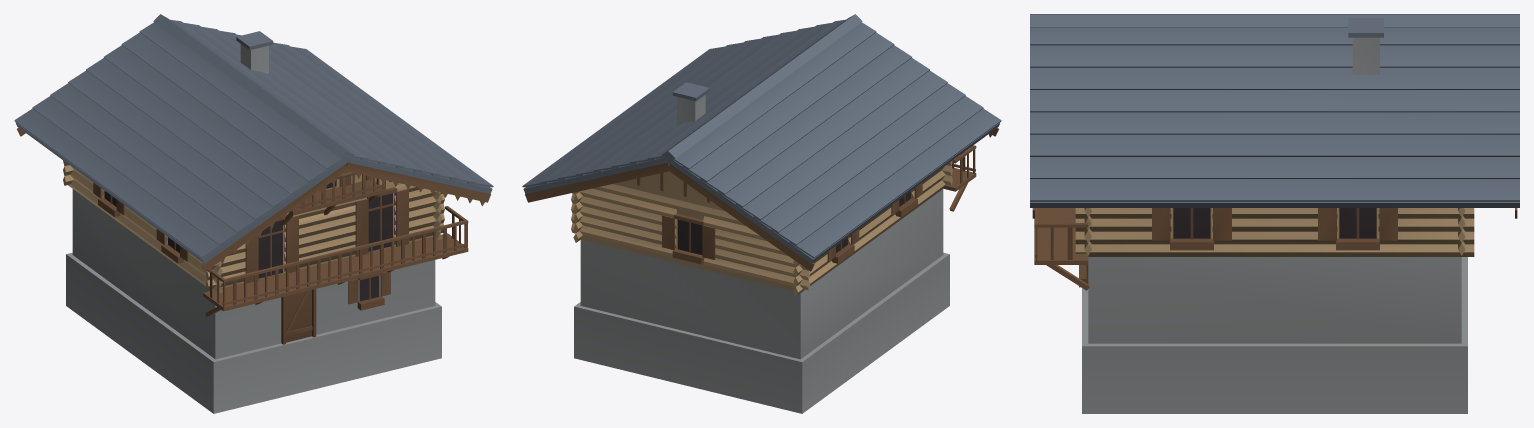
Rendered from house_3.glb.
3 views of the same model, side by side, from view 1: azimuth 30°, elevation 25°; view 2: azimuth 150°, elevation 25°; view 3: azimuth 270°, elevation 25° (orthographic). The views are drawn at different scales.
Parts seen in each view (by area): view 1: house_3; view 2: house_3; view 3: house_3.
Boxes of the visible parts, x1,y1,x2,y2 form: house_3: (14, 14, 493, 413); house_3: (522, 14, 1001, 413); house_3: (1030, 14, 1519, 413).
Size of the model in its own units: 10.63 by 9 by 11.8.
